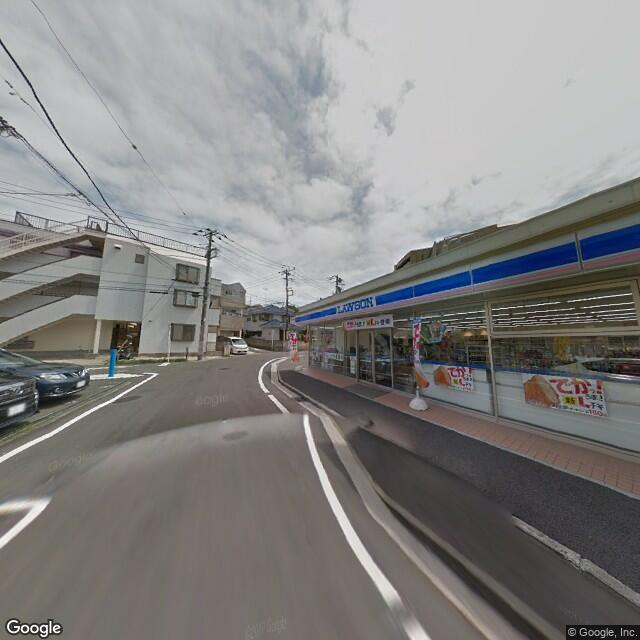lawson: (292, 202, 638, 327)
